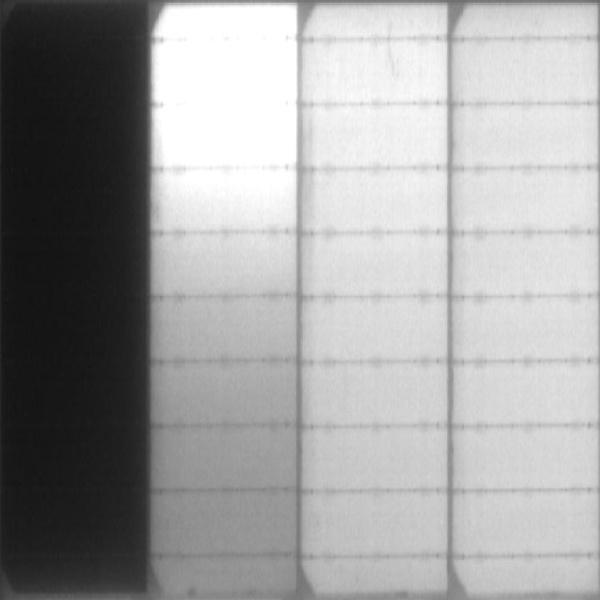hot_spot: (156, 46, 295, 98), (159, 111, 290, 159), (169, 7, 291, 33), (169, 174, 286, 190)
no_electricity: (2, 2, 147, 594)
